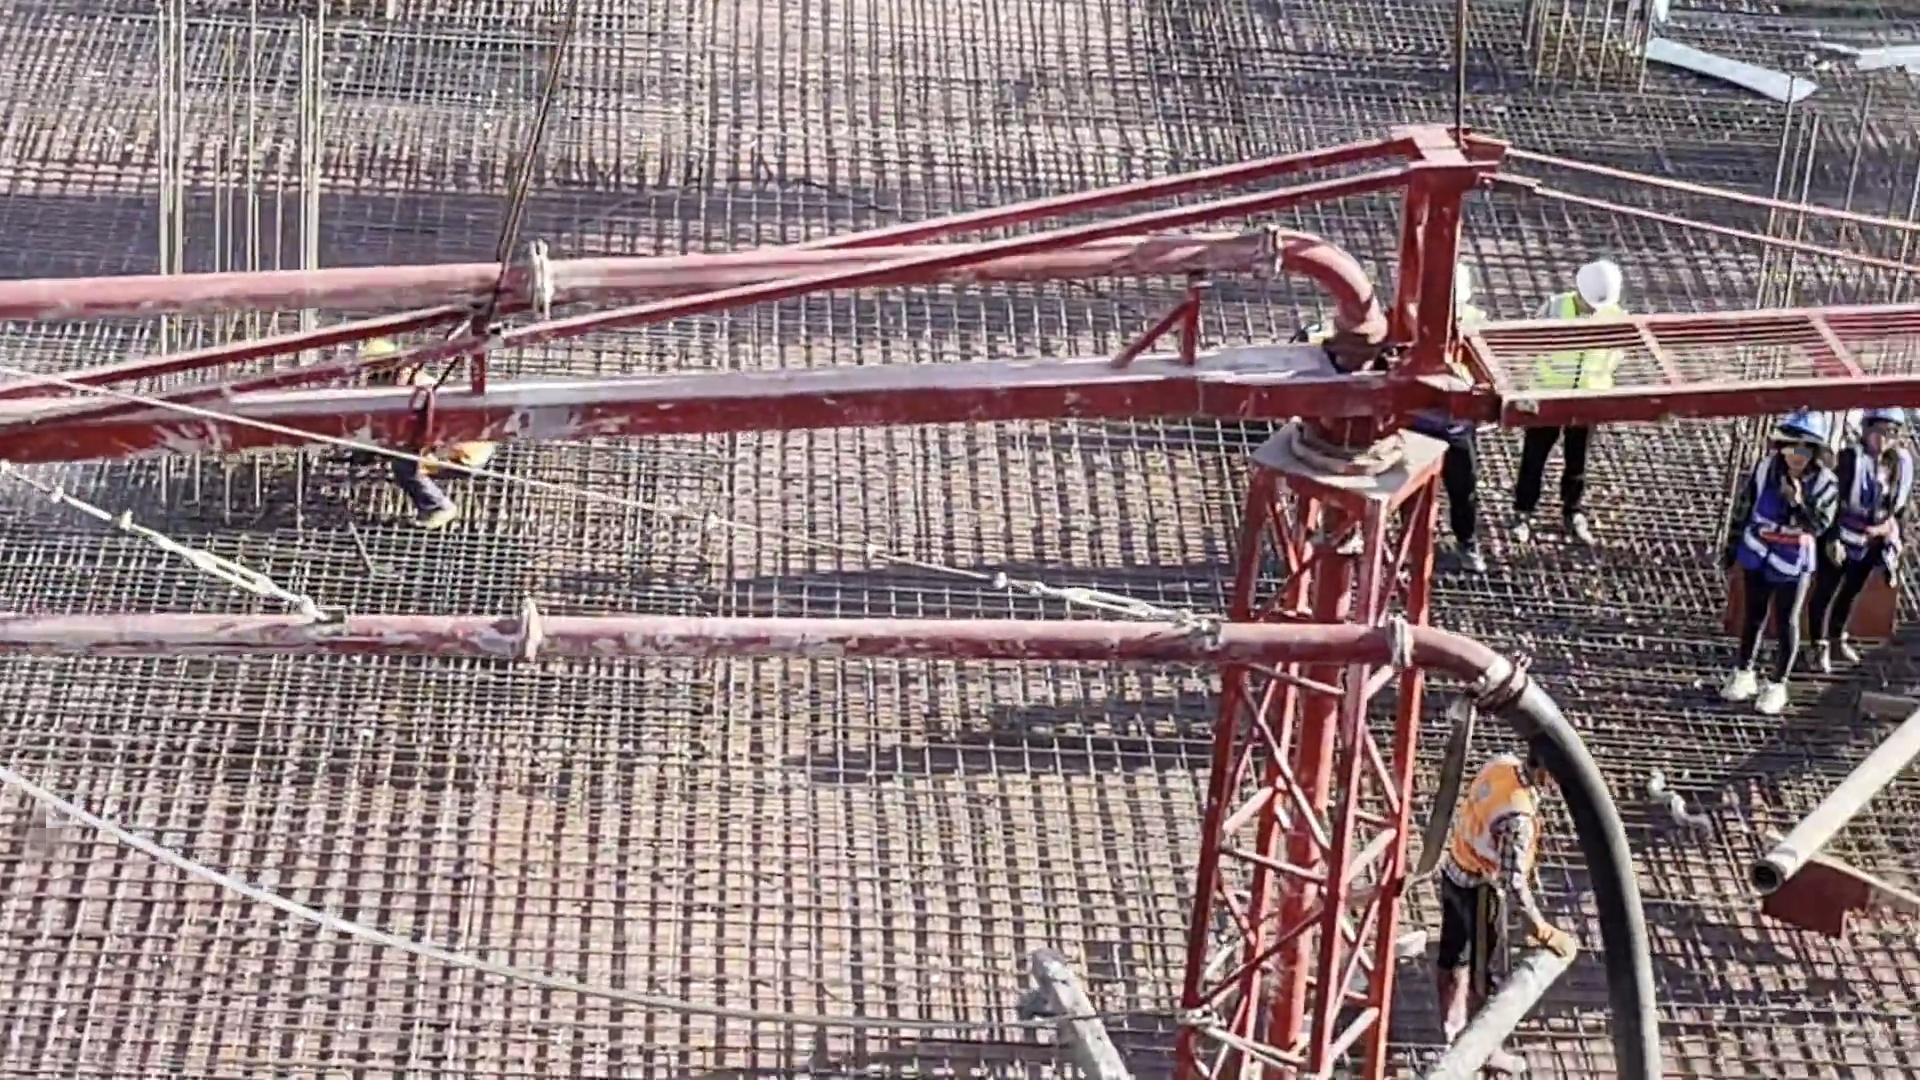helmet: (1575, 260, 1620, 301), (1770, 415, 1820, 446), (1871, 404, 1912, 431)
person: (1428, 738, 1585, 1056), (1710, 405, 1841, 722), (1517, 254, 1645, 564), (348, 332, 499, 548), (1408, 266, 1499, 588), (1818, 395, 1918, 682)
vest: (1443, 765, 1531, 887), (1539, 311, 1624, 410), (411, 379, 486, 484), (1761, 472, 1817, 587), (1846, 458, 1901, 565)
